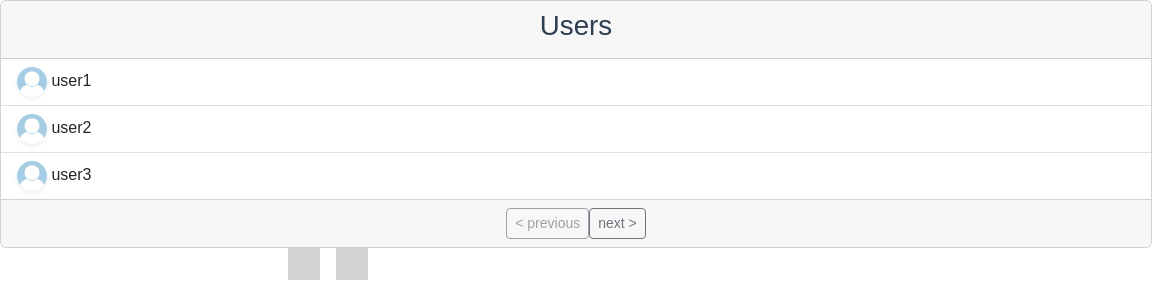
Test case: User List › displays previous page after clicking previous page button
This screenshot has width=1152, height=297.
Expected: the text "user1" is shown, [17,67,92,97]
Click the button "next >" at (617, 224), box [589,208,646,239]
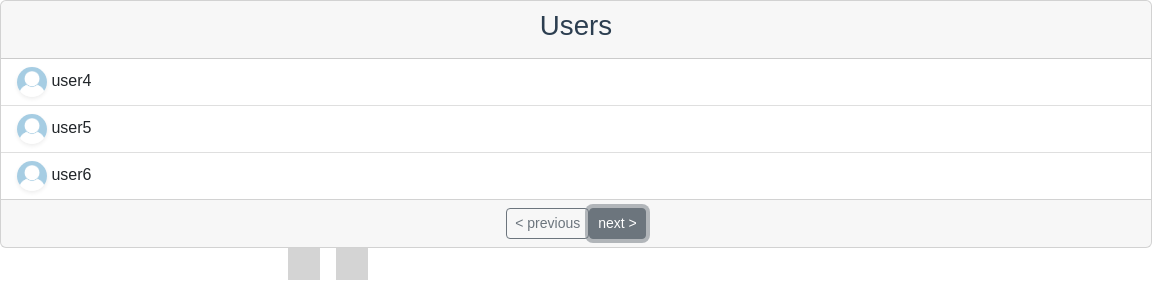
Now the text "user4" is shown, box [17,67,92,97]
Click the button "< previous" at (548, 224), box [506,208,589,239]
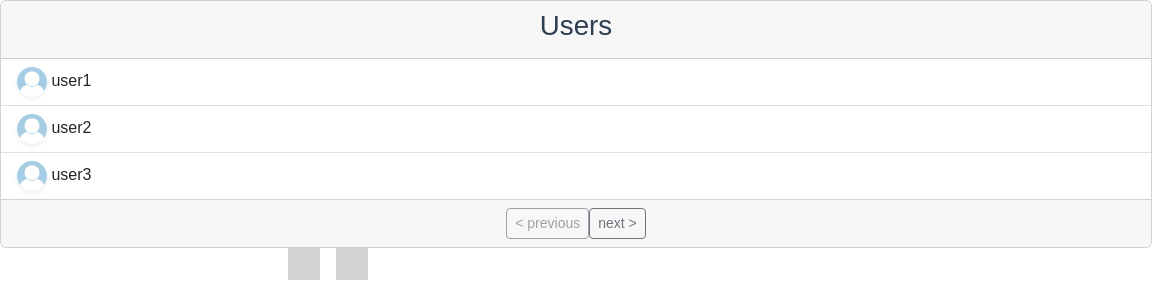
Now the text "user1" is shown, box [17,67,92,97]
